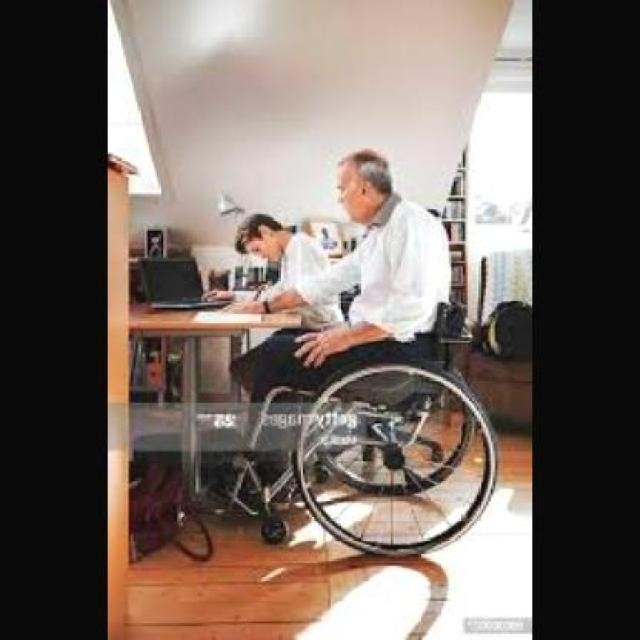wheelchairs: (252, 355, 485, 559)
